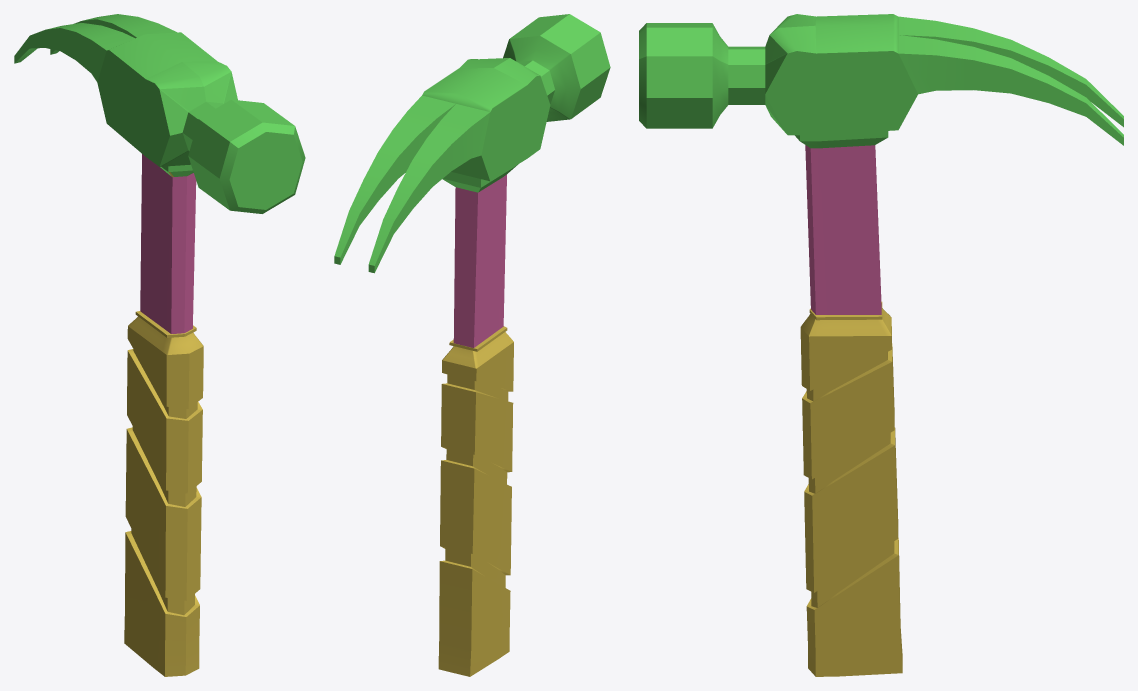
File: Hammer.fbx
3 views of the same model, side by side, from view 1: azimuth 30°, elevation 25°; view 2: azimuth 150°, elevation 25°; view 3: azimuth 270°, elevation 25° (orthographic). The views are drawn at different scales.
Visible parts, largest first — view 1: hammer; view 2: hammer; view 3: hammer.
Boxes of the visible parts, box(x1,y1,x2,y2) form: hammer: box(14, 14, 305, 676); hammer: box(334, 14, 610, 676); hammer: box(639, 14, 1123, 676).
Bounding box in the file's own units: 12.94 × 87.97 × 60.09.
